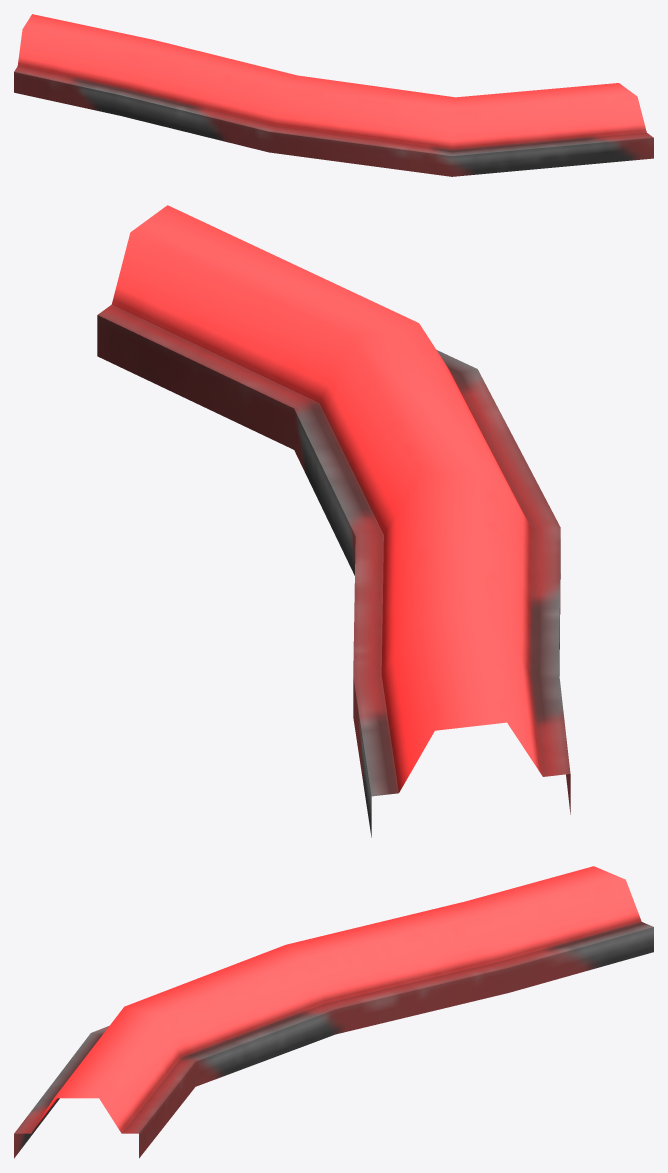
Rendered from Way_S45.fbx.
3 views of the same model, one above another, from view 1: azimuth 30°, elevation 25°; view 2: azimuth 150°, elevation 25°; view 3: azimuth 270°, elevation 25° (orthographic). The views are drawn at different scales.
Visible parts, largest first — view 1: Way_S45; view 2: Way_S45; view 3: Way_S45.
Part boxes in pixels (box(x1,y1,x2,y2)): Way_S45: box(14, 14, 653, 176); Way_S45: box(97, 205, 570, 837); Way_S45: box(14, 866, 653, 1158).
Bounding box in the file's own units: 1.08 × 0.1253 × 1.2.
